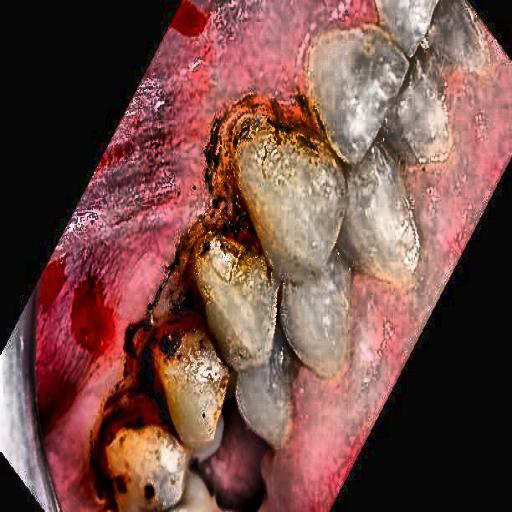Calculus: (81, 154, 289, 512), (210, 79, 343, 164)
